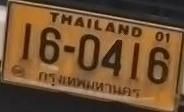letters: (38, 26, 62, 64), (147, 46, 170, 85), (77, 34, 100, 70), (102, 39, 123, 77), (22, 22, 33, 61), (130, 42, 140, 81)
province: (38, 72, 140, 99)
